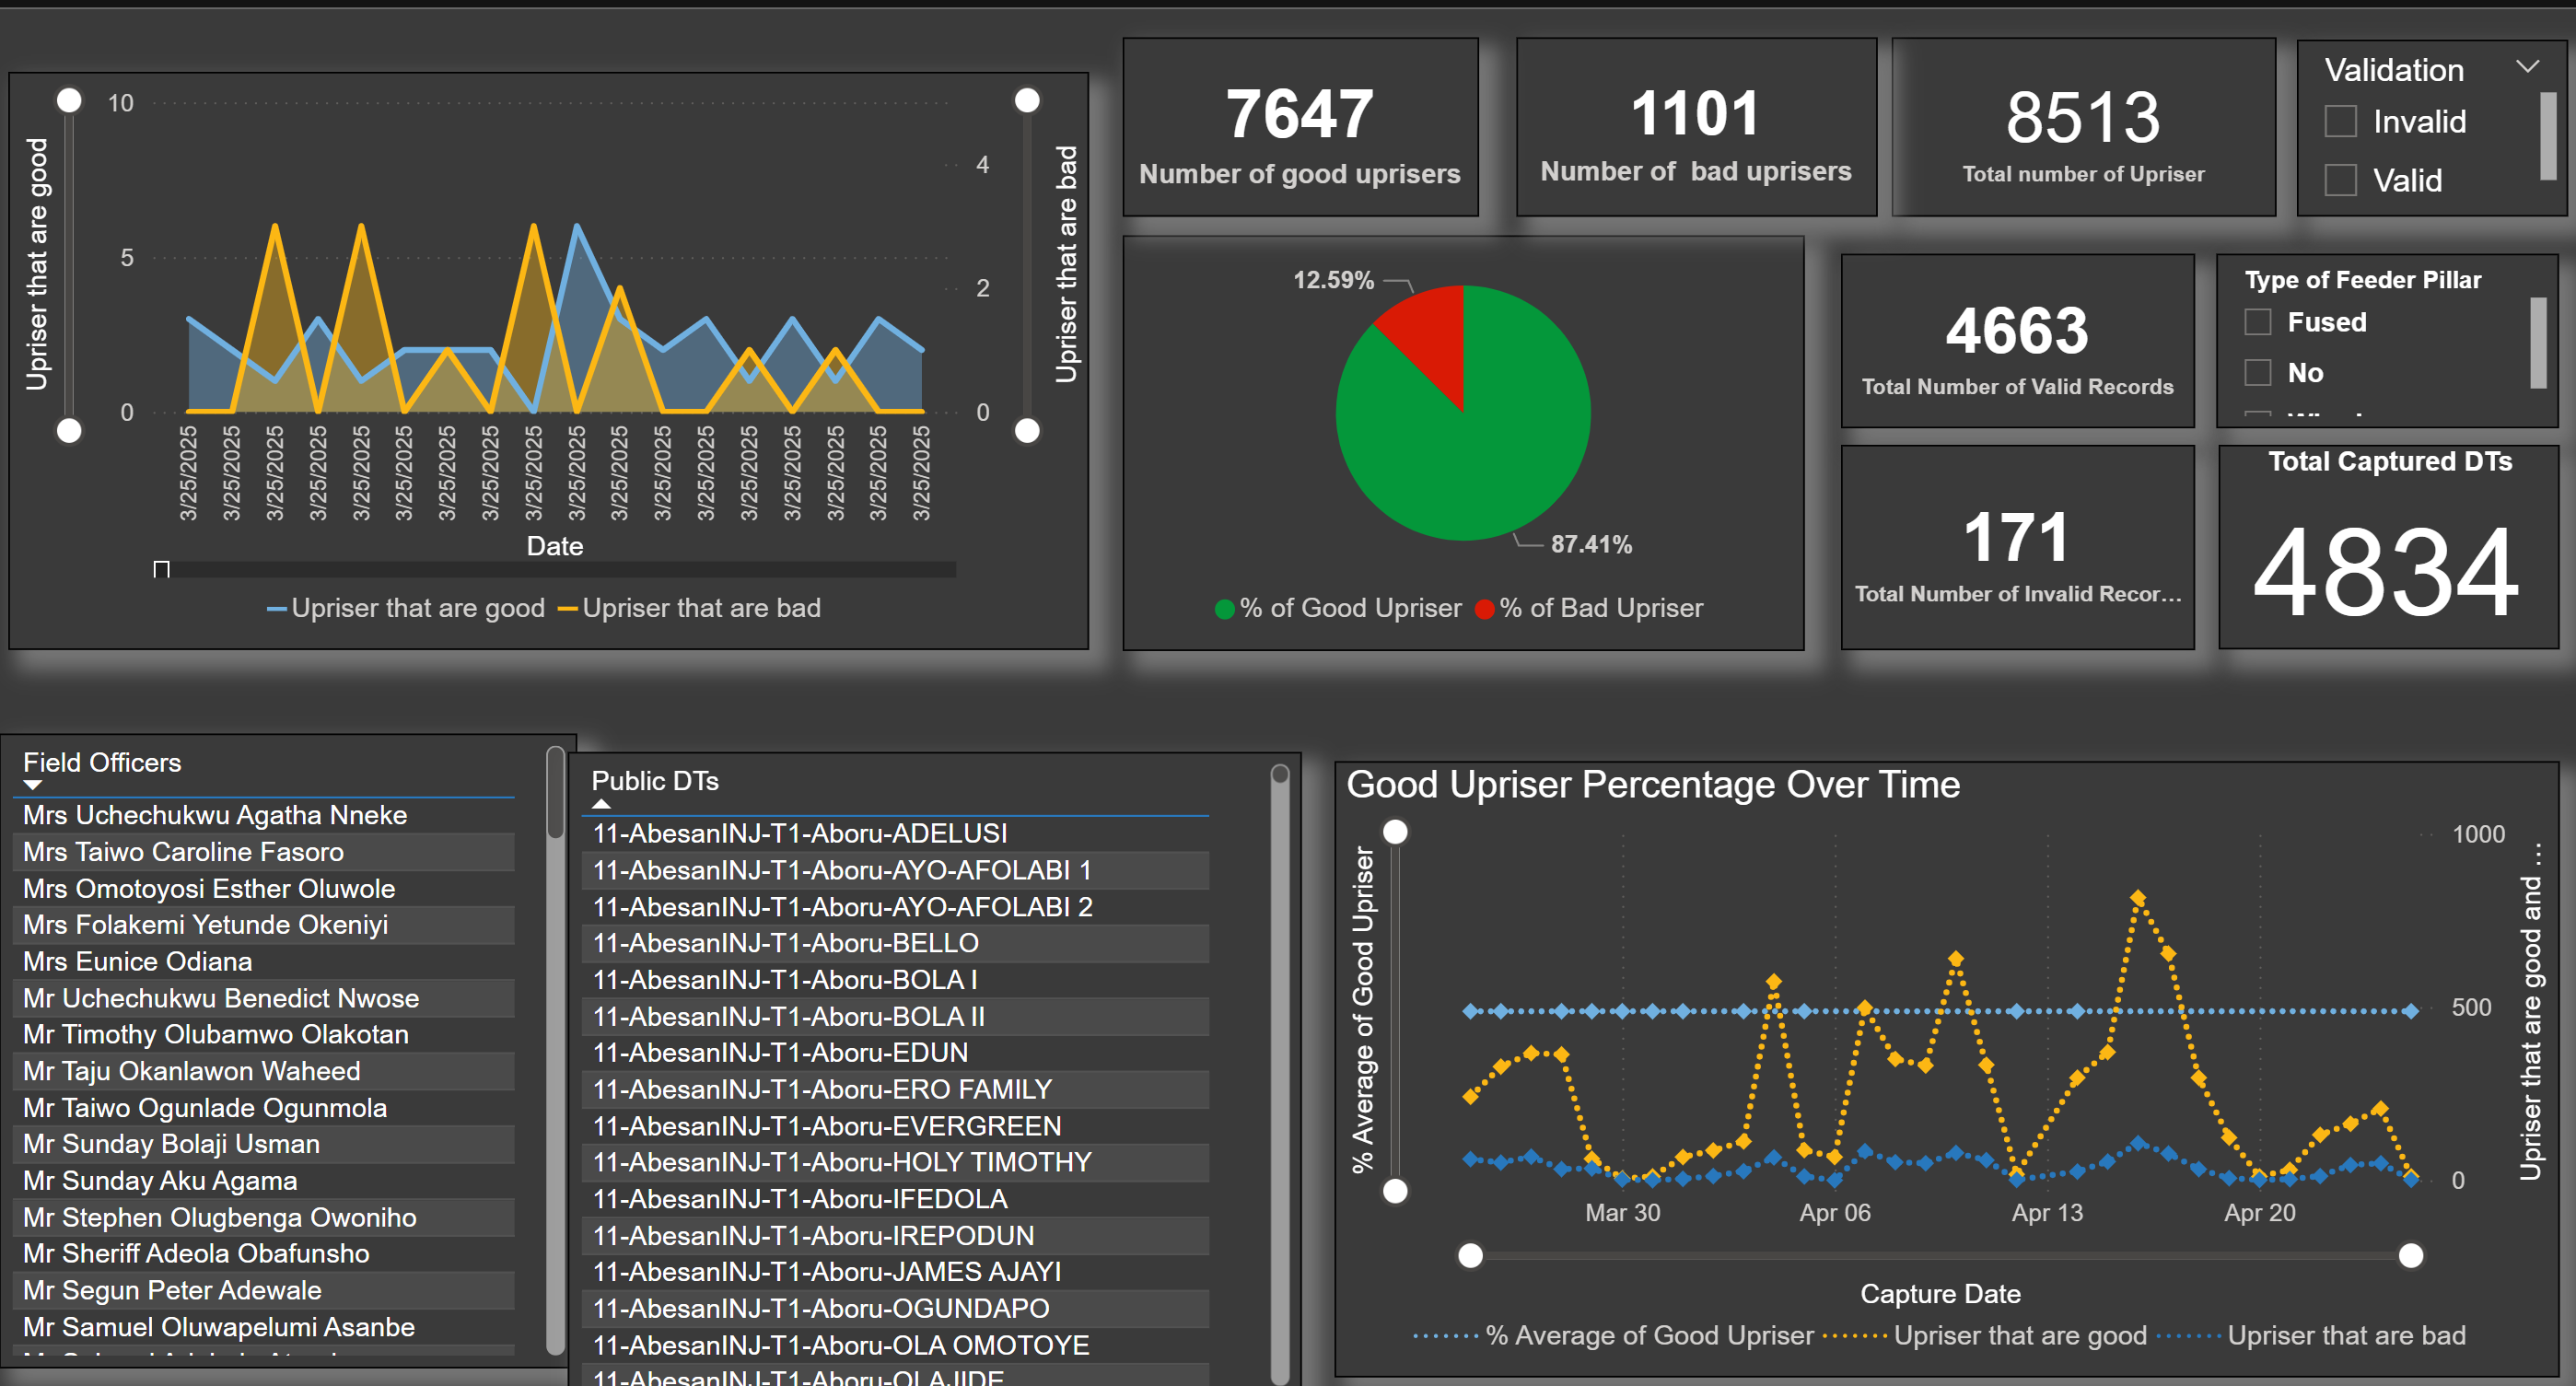

Layout of this report page (visuals, bound fields, positions):
{"tool":"powerbi","page":{"name":"Upriser_FeederPillar_Dashboard-2","canvas":[1280,720],"ordinal":1},"visuals":[{"type":"card","fields":{"Values":["Sum(IE_UPRISAL_DATA-demo.Total number of Upriser)"]},"box":[932.5,50.9,189.5,88.4],"z":0,"group":"g1"},{"type":"tableEx","fields":{"Values":["IE_UPRISAL_DATA-demo.FIELD OFFICERS"]},"box":[0,393,284.9,312.8],"z":0},{"type":"group","id":"g1","title":"Group 1","box":[5,50.9,1261.2,669.8],"z":1000},{"type":"lineChart","fields":{"Category":["IE_UPRISAL_DATA-demo.Timestamp"],"Y":["Sum(IE_UPRISAL_DATA-demo.Number of upriser that are good)"],"Y2":["Sum(IE_UPRISAL_DATA-demo.Number of upriser that are bad)"]},"box":[5,68.1,532.6,284.9],"z":1000,"group":"g1"},{"type":"image","box":[0,0,60.5,37.2],"z":2000},{"type":"pieChart","fields":{"Y":["Sum(IE_UPRISAL_DATA-demo.Number of upriser that are good)","Sum(IE_UPRISAL_DATA-demo.Number of upriser that are bad)"]},"box":[553.4,148.6,336,204.7],"z":2000,"group":"g1"},{"type":"tableEx","fields":{"Values":["IE_UPRISAL_DATA-demo.PUBLIC DTs"]},"box":[280.1,402.1,361.6,318.6],"z":3000,"group":"g1"},{"type":"card","fields":{"Values":["Count(IE_UPRISAL_DATA-demo)"]},"box":[908.1,157.9,174.4,86],"z":4000,"group":"g1"},{"type":"card","title":"Total Captured DTs","fields":{"Values":["IE_UPRISAL_DATA-demo.DT_Count"]},"box":[1093.4,251.8,167.9,100.9],"z":5000},{"type":"card","fields":{"Values":["Count(IE_UPRISAL_DATA-demo)"]},"box":[908.1,252.1,174.4,101.2],"z":5000,"group":"g1"},{"type":"card","fields":{"Values":["Sum(IE_UPRISAL_DATA-demo.Number of upriser that are bad)"]},"box":[747.6,50.9,177.9,88.4],"z":6000,"group":"g1"},{"type":"card","fields":{"Values":["Sum(IE_UPRISAL_DATA-demo.Number of upriser that are good)"]},"box":[553.4,50.9,175.6,88.4],"z":7000,"group":"g1"},{"type":"lineChart","title":"Good Upriser Percentage Over Time","fields":{"Category":["IE_UPRISAL_DATA-demo.Inspection Date.Variation.Date Hierarchy.Day"],"Y":["Avg(IE_UPRISAL_DATA-demo.Good Upriser %)"],"Y2":["Sum(IE_UPRISAL_DATA-demo.Number of upriser that are good)","Sum(IE_UPRISAL_DATA-demo.Number of upriser that are bad)"]},"box":[658.1,406.7,603.5,303.5],"z":8000,"group":"g1"},{"type":"slicer","fields":{"Values":["IE_UPRISAL_DATA-demo.Validation"]},"box":[1132.5,52.1,133.7,87.2],"z":9000,"group":"g1"},{"type":"slicer","fields":{"Values":["IE_UPRISAL_DATA-demo.Select below if the Feeder Pillar is"]},"box":[1092.9,157.9,168.6,86],"z":11000,"group":"g1"}]}

Visuals, with their boxes on the page's 1280x720 design canvas (x1, y1, x2, y2). These are canvas units, not pixel positions in the 2576x1386 screenshot, which may show the page scaled, cropped or inside an application window:
card - Sum(IE_UPRISAL_DATA-demo.Total number of Upriser): bbox(932, 51, 1122, 139)
tableEx - IE_UPRISAL_DATA-demo.FIELD OFFICERS: bbox(0, 393, 285, 706)
"Group 1" group: bbox(5, 51, 1266, 721)
lineChart - IE_UPRISAL_DATA-demo.Timestamp x Sum(IE_UPRISAL_DATA-demo.Number of upriser that are good): bbox(5, 68, 538, 353)
image: bbox(0, 0, 60, 37)
pieChart - Sum(IE_UPRISAL_DATA-demo.Number of upriser that are good) x Sum(IE_UPRISAL_DATA-demo.Number of upriser that are bad): bbox(553, 149, 889, 353)
tableEx - IE_UPRISAL_DATA-demo.PUBLIC DTs: bbox(280, 402, 642, 721)
card - Count(IE_UPRISAL_DATA-demo): bbox(908, 158, 1082, 244)
"Total Captured DTs" card: bbox(1093, 252, 1261, 353)
card - Count(IE_UPRISAL_DATA-demo): bbox(908, 252, 1082, 353)
card - Sum(IE_UPRISAL_DATA-demo.Number of upriser that are bad): bbox(748, 51, 926, 139)
card - Sum(IE_UPRISAL_DATA-demo.Number of upriser that are good): bbox(553, 51, 729, 139)
"Good Upriser Percentage Over Time" lineChart: bbox(658, 407, 1262, 710)
slicer - IE_UPRISAL_DATA-demo.Validation: bbox(1132, 52, 1266, 139)
slicer - IE_UPRISAL_DATA-demo.Select below if the Feeder Pillar is: bbox(1093, 158, 1262, 244)
